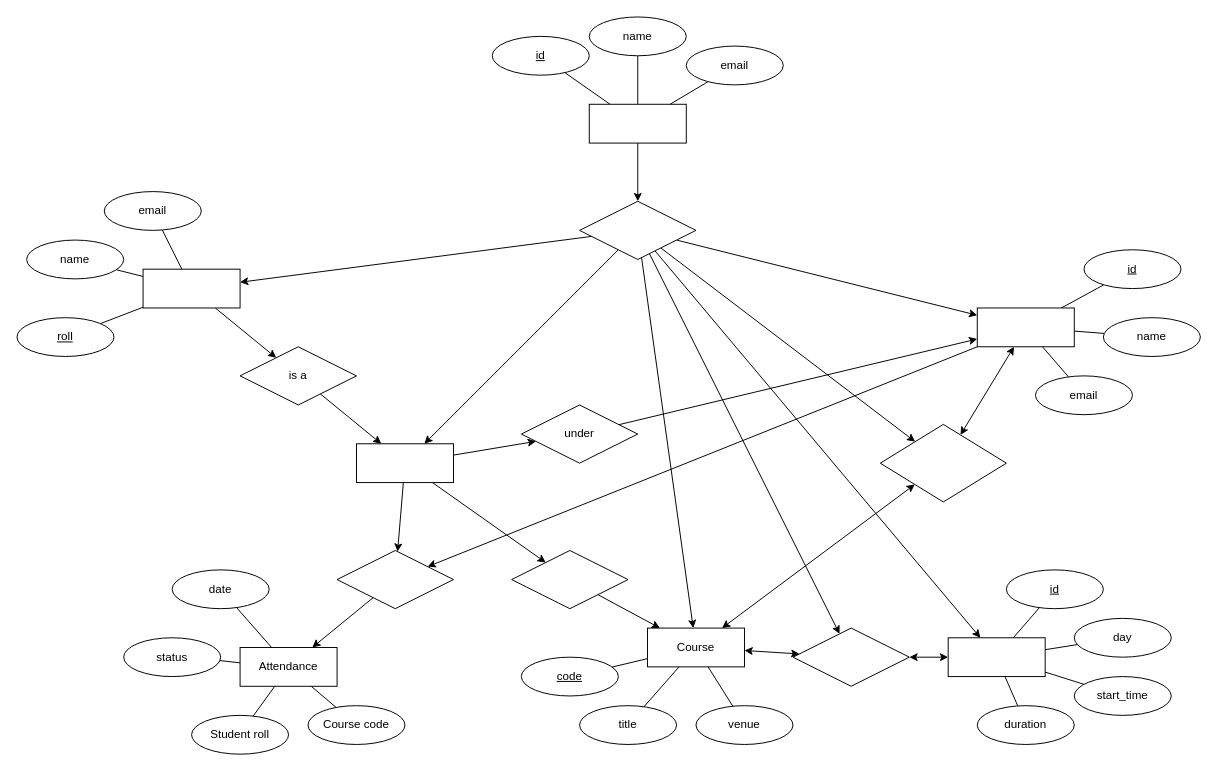
Some shapes in this 1217 by 771 pixel diagram are drawn without their labels. The shapes that lost their labels are listed below. From the top down, each one's box as (x1, y1, x2, y2) in pixels, then its label:
(588, 103, 686, 143): Admin
(579, 200, 696, 259): Manages
(142, 268, 240, 308): Student
(976, 307, 1074, 347): Teacher
(356, 443, 453, 483): TA
(879, 423, 1006, 502): Course-Teacher allocation
(336, 550, 453, 609): Takes
(511, 550, 628, 609): allocated to
(792, 627, 909, 686): Course-Slot allocation
(947, 637, 1045, 677): Slot
